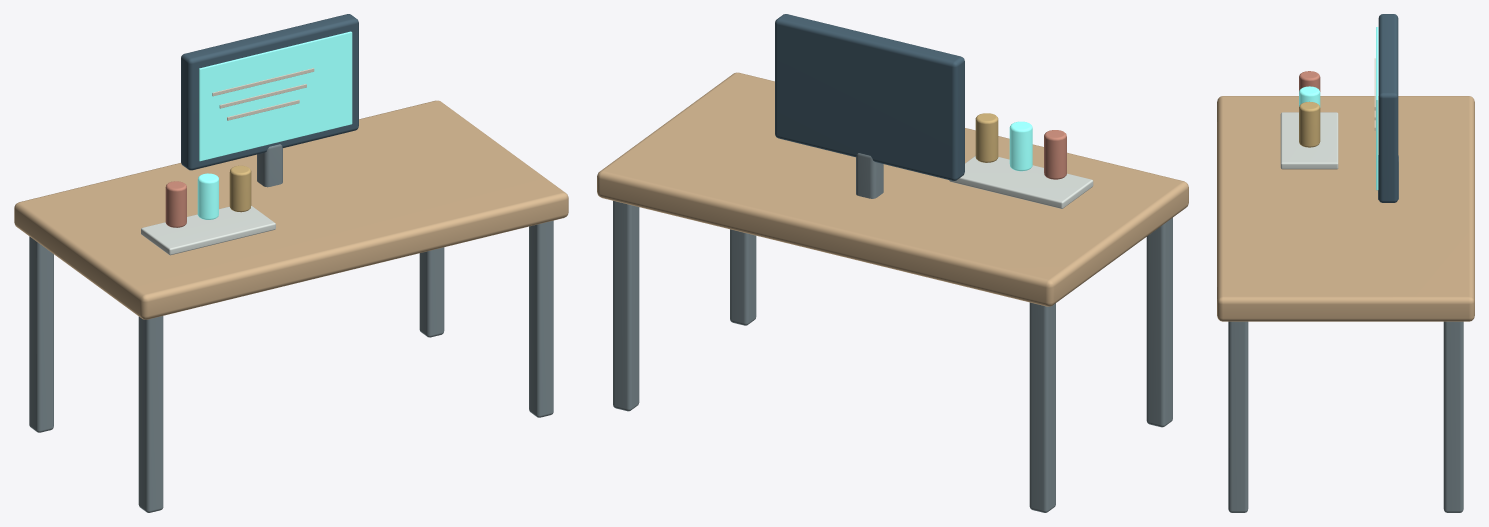
The model's file is alpha_labdesk.glb.
3 renders of one model, left to right at view 1: azimuth 30°, elevation 25°; view 2: azimuth 150°, elevation 25°; view 3: azimuth 270°, elevation 25°, orthographic. The views are drawn at different scales.
Visible parts, largest first — view 1: Alpha_lightwood, Alpha_metal, Alpha_screen, Alpha_navy, Alpha_white, Alpha_cream, Alpha_gold, Alpha_coral; view 2: Alpha_lightwood, Alpha_navy, Alpha_metal, Alpha_white, Alpha_screen, Alpha_gold, Alpha_coral; view 3: Alpha_lightwood, Alpha_metal, Alpha_navy, Alpha_white, Alpha_gold, Alpha_screen, Alpha_coral.
Part boxes in pixels (x1,y1,x2,y2): Alpha_lightwood: [14, 100, 568, 319]; Alpha_metal: [29, 144, 553, 512]; Alpha_screen: [197, 31, 352, 219]; Alpha_navy: [181, 14, 358, 170]; Alpha_white: [141, 206, 275, 255]; Alpha_cream: [212, 68, 314, 120]; Alpha_gold: [229, 165, 251, 212]; Alpha_coral: [165, 181, 186, 227]; Alpha_lightwood: [597, 72, 1188, 306]; Alpha_navy: [775, 14, 964, 180]; Alpha_metal: [613, 153, 1172, 512]; Alpha_white: [949, 156, 1093, 208]; Alpha_screen: [1009, 121, 1032, 171]; Alpha_gold: [975, 113, 998, 162]; Alpha_coral: [1044, 130, 1066, 179]; Alpha_lightwood: [1217, 96, 1474, 321]; Alpha_metal: [1228, 155, 1463, 512]; Alpha_navy: [1378, 14, 1398, 202]; Alpha_white: [1280, 112, 1338, 169]; Alpha_gold: [1299, 101, 1320, 147]; Alpha_screen: [1299, 27, 1378, 190]; Alpha_coral: [1299, 71, 1320, 91].
Size of the model in its own units: 1.6 by 1.32 by 0.85.
